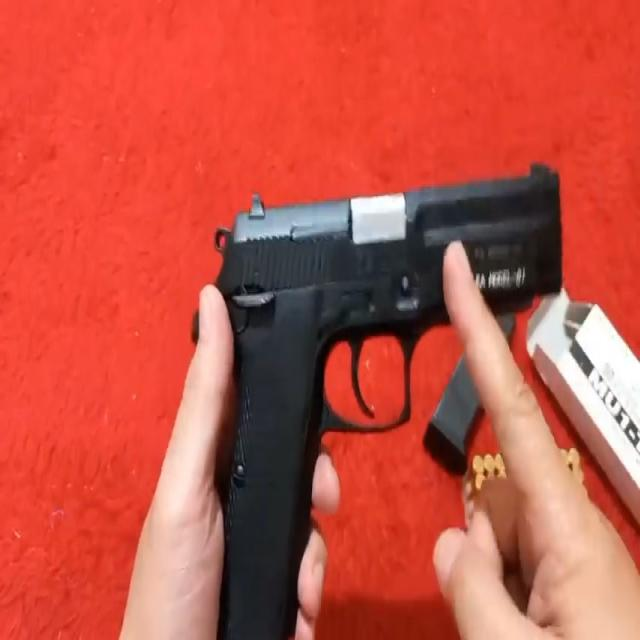handgun: (210, 152, 574, 640)
